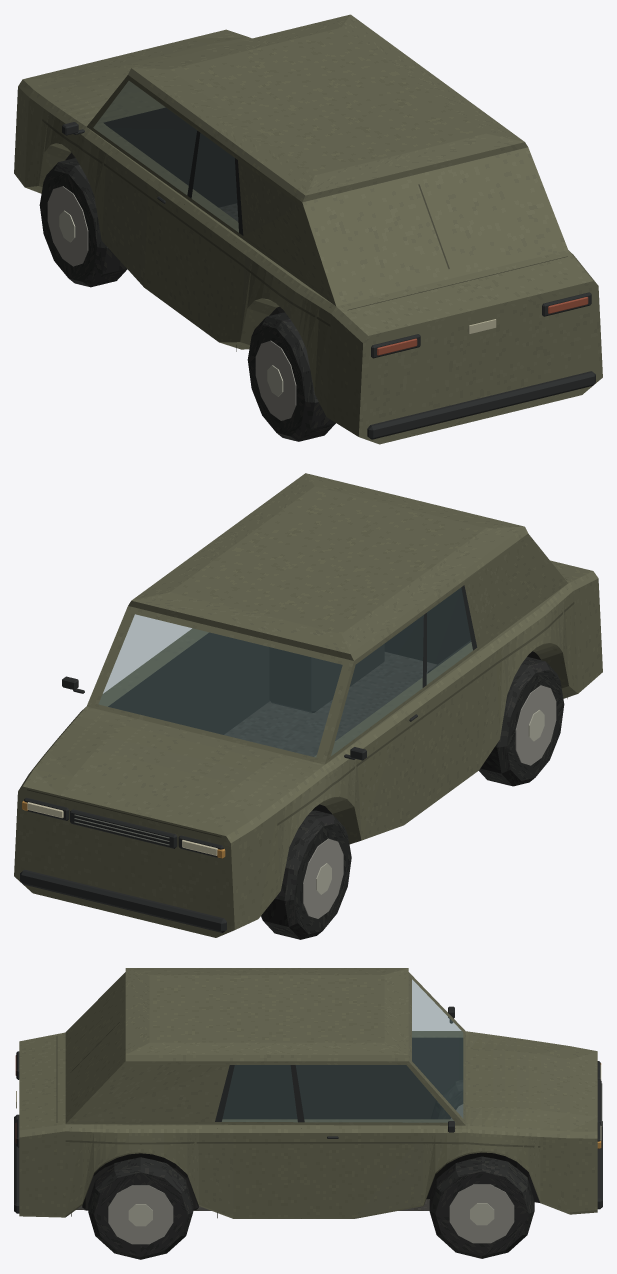
Rendered from vehicle_armored.glb.
The picture shows the model from 3 angles, top to bottom: view 1: azimuth 30°, elevation 25°; view 2: azimuth 150°, elevation 25°; view 3: azimuth 270°, elevation 25°; orthographic projection. The views are drawn at different scales.
Visible parts, largest first — view 1: closed_body, roof_body, glazing; view 2: closed_body, roof_body, glazing; view 3: closed_body, roof_body, glazing.
Part boxes in pixels (x1,y1,x2,y2): closed_body: (14,29,602,444); roof_body: (128,14,527,202); glazing: (93,81,238,232); closed_body: (14,533,602,939); roof_body: (128,473,528,660); glazing: (99,588,472,757); closed_body: (14,972,602,1259); roof_body: (125,968,408,1061); glazing: (222,979,463,1122).
Size of the model in its own units: 2.53 by 2 by 5.27.
2 materials, 2 textured.
